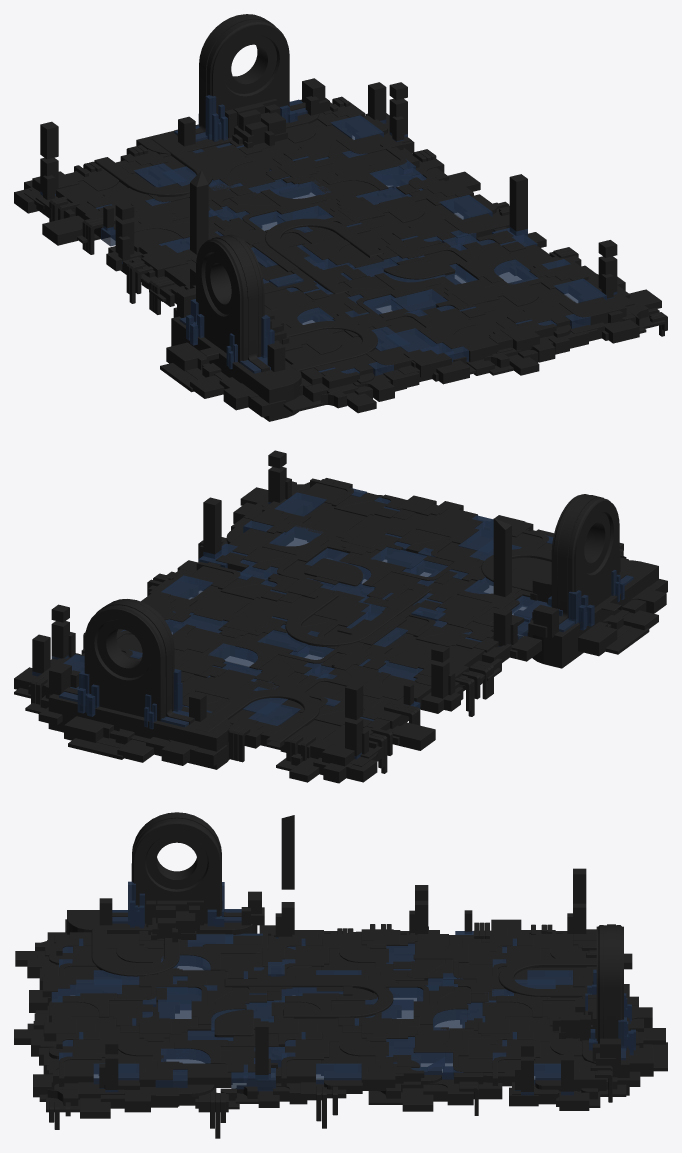
Rendered from battleScene01_floor01_v2.fbx.
The picture shows the model from 3 angles, top to bottom: view 1: azimuth 30°, elevation 25°; view 2: azimuth 150°, elevation 25°; view 3: azimuth 270°, elevation 25°; orthographic projection. The views are drawn at different scales.
Parts seen in each view (by area): view 1: Object042, Object035, Plane042, Plane043, Plane038, Plane039, Plane041, Plane040, Plane031, Plane030, Plane044, Plane046 (+25 smaller); view 2: Object035, Object042, Plane043, Plane038, Plane039, Plane042, Plane044, Plane016, Plane031, Plane030, Plane020, Plane017 (+27 smaller); view 3: Object042, Object035, Plane038, Plane043, Plane039, Plane040, Plane042, Plane020, Plane031, Plane016, Plane046, Plane041 (+30 smaller).
Part boxes in pixels (x1,y1,x2,y2): Object042: [160, 234, 301, 421]; Object035: [136, 14, 329, 154]; Plane042: [373, 298, 548, 377]; Plane043: [452, 264, 634, 338]; Plane038: [338, 180, 509, 248]; Plane039: [403, 228, 580, 294]; Plane041: [282, 312, 430, 388]; Plane040: [298, 143, 446, 212]; Plane031: [208, 169, 344, 235]; Plane030: [320, 255, 468, 318]; Plane044: [24, 149, 194, 219]; Plane046: [268, 102, 411, 167]; Object035: [48, 599, 230, 769]; Object042: [528, 494, 667, 668]; Plane043: [251, 478, 415, 558]; Plane038: [141, 561, 301, 631]; Plane039: [198, 520, 366, 583]; Plane042: [371, 495, 533, 570]; Plane044: [228, 688, 389, 766]; Plane016: [334, 611, 499, 689]; Plane031: [203, 625, 341, 690]; Plane030: [307, 542, 458, 613]; Plane020: [299, 649, 458, 728]; Plane017: [257, 578, 417, 656]; Object042: [65, 812, 264, 942]; Object035: [552, 924, 667, 1095]; Plane038: [272, 1022, 395, 1098]; Plane043: [47, 1022, 172, 1098]; Plane039: [155, 1023, 285, 1097]; Plane040: [373, 1024, 507, 1084]; Plane042: [42, 976, 166, 1047]; Plane020: [373, 930, 507, 986]; Plane031: [374, 978, 507, 1032]; Plane016: [278, 929, 395, 986]; Plane046: [486, 1025, 606, 1098]; Plane041: [49, 930, 172, 993].
Size of the model in its own units: 2193 by 826 by 2949.
